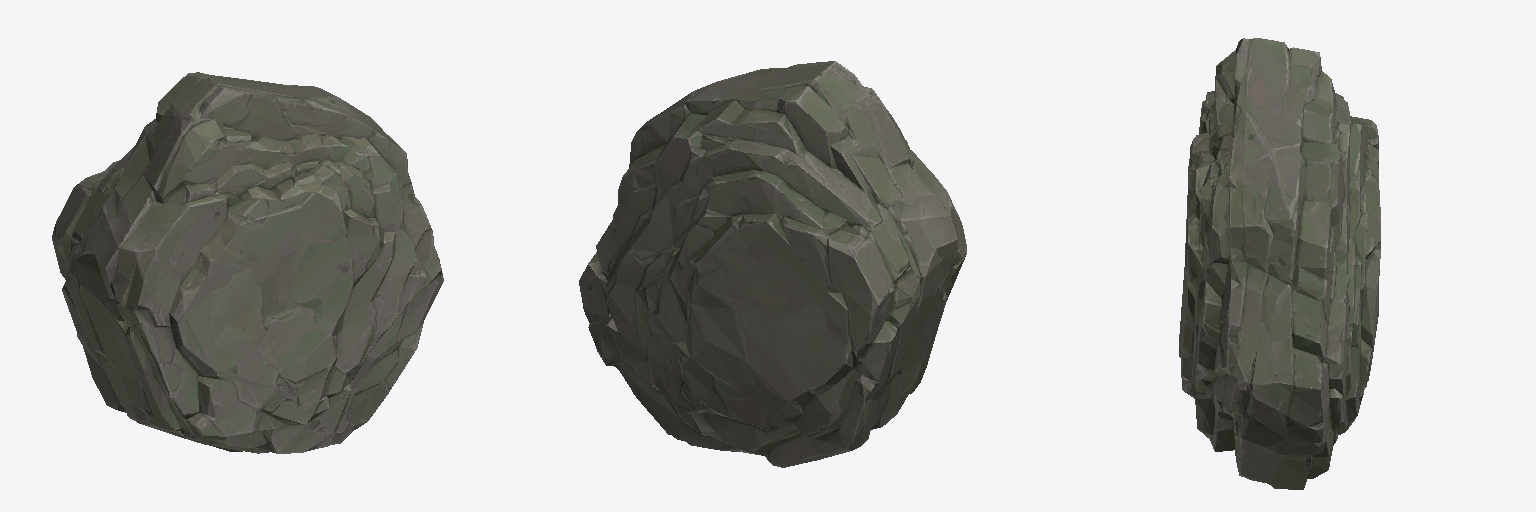
The picture shows the model from 3 angles: view 1: azimuth 30°, elevation 25°; view 2: azimuth 150°, elevation 25°; view 3: azimuth 270°, elevation 25°; orthographic projection.
Parts seen in each view (by area): view 1: Dn_HL_Stairs_Rock_Slab_A; view 2: Dn_HL_Stairs_Rock_Slab_A; view 3: Dn_HL_Stairs_Rock_Slab_A.
Boxes of the visible parts, x1,y1,x2,y2 form: Dn_HL_Stairs_Rock_Slab_A: [52, 72, 443, 453]; Dn_HL_Stairs_Rock_Slab_A: [579, 61, 966, 467]; Dn_HL_Stairs_Rock_Slab_A: [1179, 38, 1380, 489].
Bounding box in the file's own units: 12.68 × 13.78 × 6.53.
Materials: 1 (1 with a texture image).